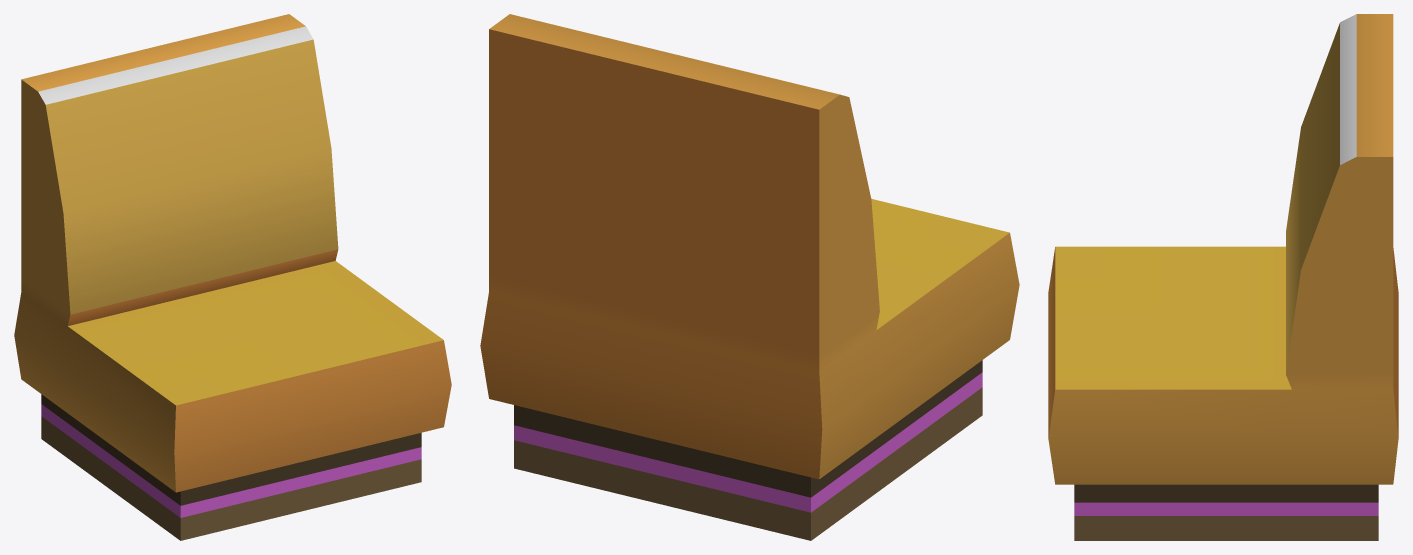
The model's file is Chair_Yellow.fbx.
The picture shows the model from 3 angles, left to right: view 1: azimuth 30°, elevation 25°; view 2: azimuth 150°, elevation 25°; view 3: azimuth 270°, elevation 25°; orthographic projection. The views are drawn at different scales.
Parts seen in each view (by area): view 1: Cube.007; view 2: Cube.007; view 3: Cube.007.
Boxes of the visible parts, left/top/right/bottom form: Cube.007: left=14, top=14, right=451, bottom=540; Cube.007: left=480, top=14, right=1019, bottom=540; Cube.007: left=1048, top=14, right=1398, bottom=540.
Bounding box in the file's own units: 100 × 123 × 100.
